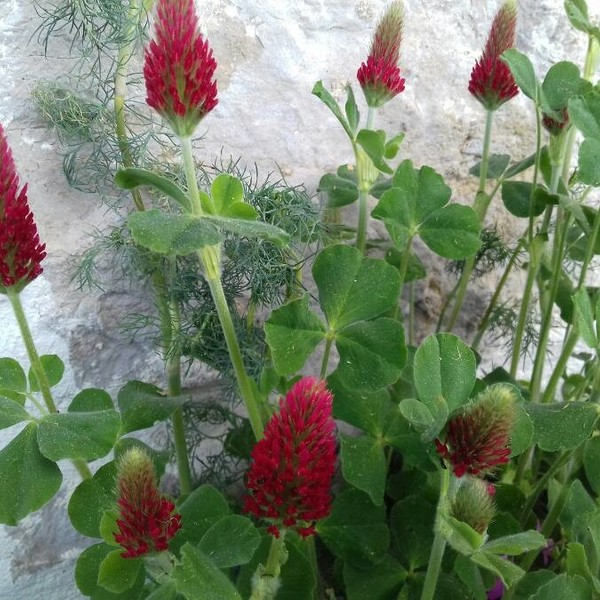obstacle: (123, 43, 364, 593), (320, 67, 558, 510)
